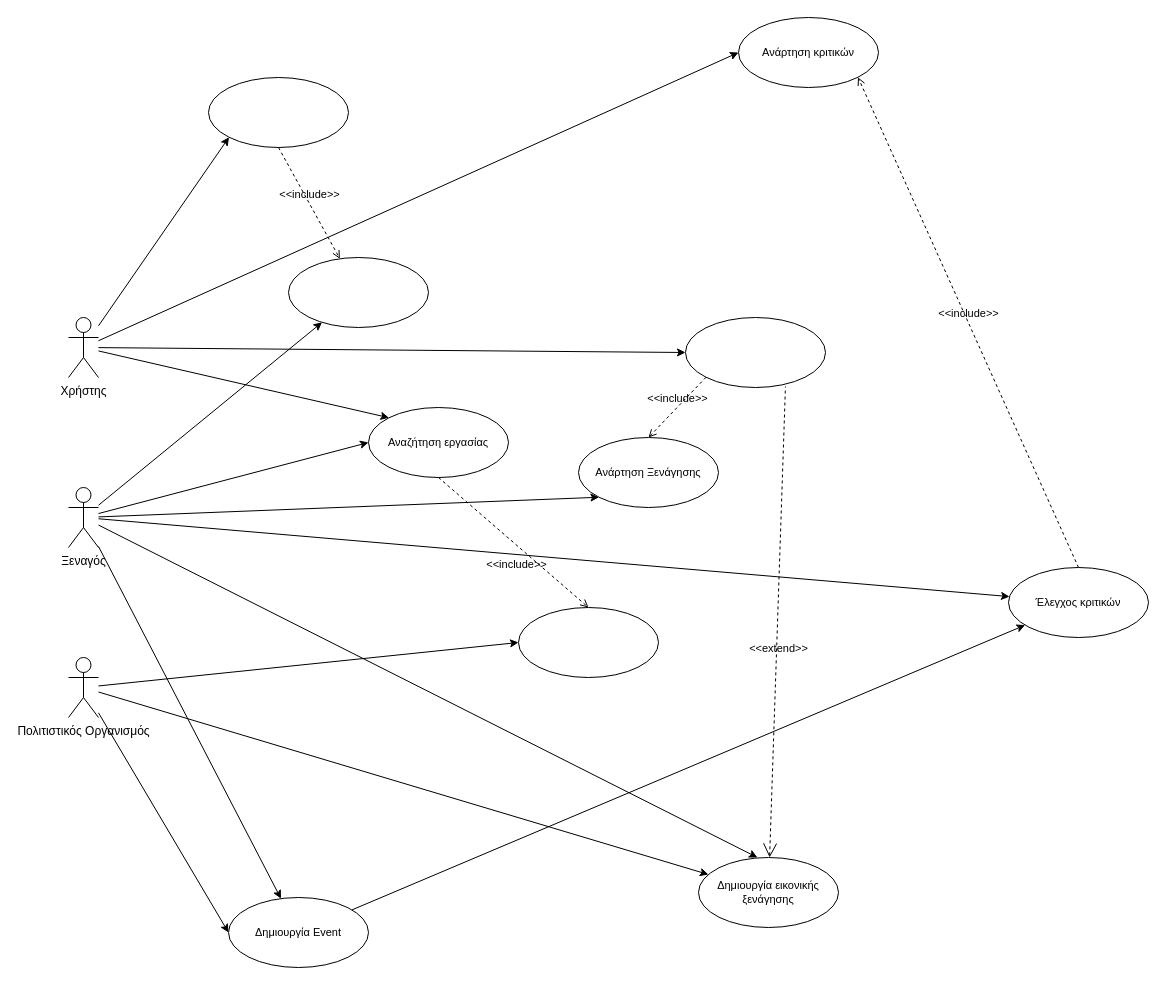
Image size: 1166x985. Some labels were removed from this diagram. Here are the shapes that lost their labels. From the top down, the centre of each, then its label:
the point at 278,112: Συμμετοχή σε Quiz
the point at 358,292: Δημιουργία Quiz
the point at 755,352: Συμμετοχή σε ξενάγηση
the point at 588,642: Προσφορά Εργασίας
